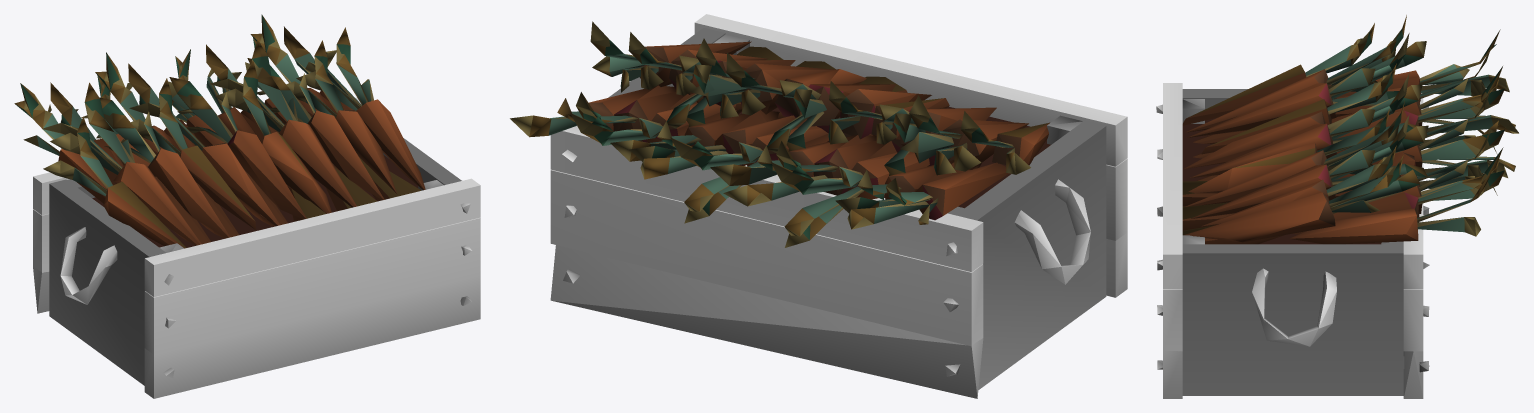
The model's file is pq_cageot_carottes.glb.
The picture shows the model from 3 angles, left to right: view 1: azimuth 30°, elevation 25°; view 2: azimuth 150°, elevation 25°; view 3: azimuth 270°, elevation 25°; orthographic projection. The views are drawn at different scales.
Parts seen in each view (by area): view 1: FarmCrate_Carrot; view 2: FarmCrate_Carrot; view 3: FarmCrate_Carrot.
Boxes of the visible parts, left/top/right/bottom form: FarmCrate_Carrot: left=14, top=14, right=480, bottom=398; FarmCrate_Carrot: left=510, top=14, right=1127, bottom=398; FarmCrate_Carrot: left=1156, top=15, right=1518, bottom=398.
Bounding box in the file's own units: 0.5315 × 0.3061 × 0.4149.
